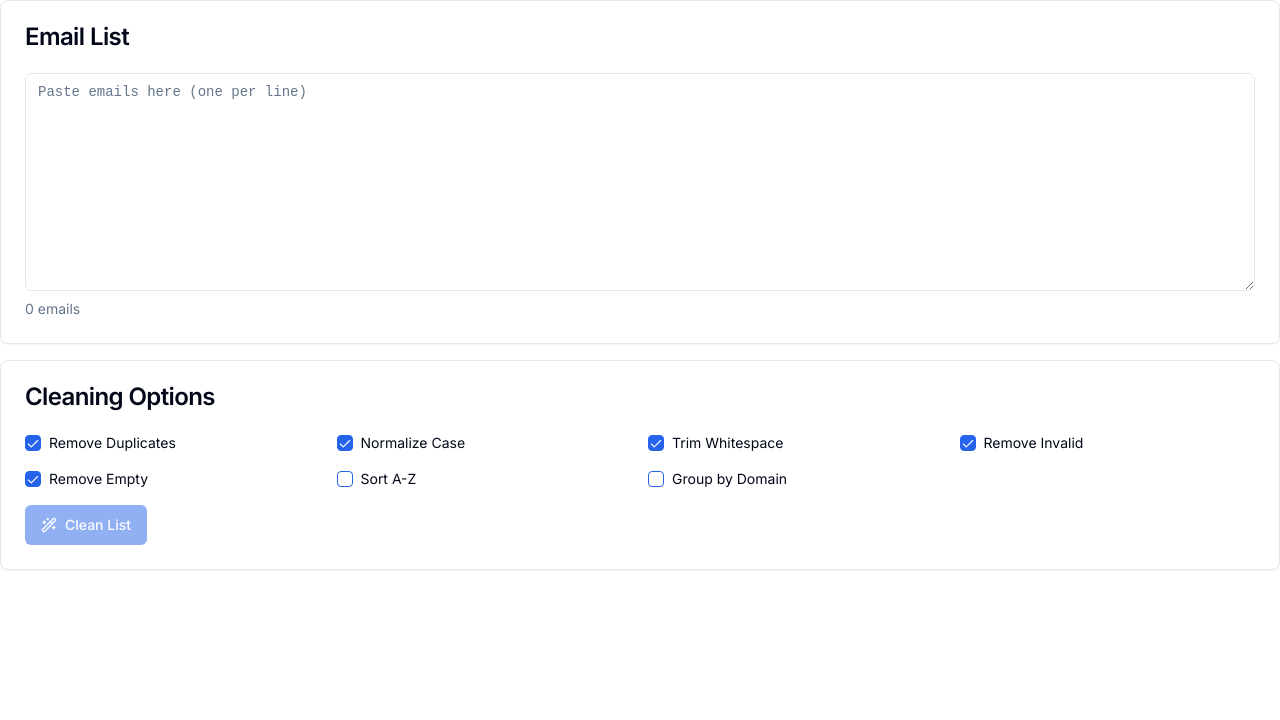
Test case: ListCleaner › enables clean button when emails are entered
The width and height of the screenshot is (1280, 720).
Type "test@example.com" into the text box with placeholder "Paste emails here (one per line)" at (640,182), box [25,73,1255,291]
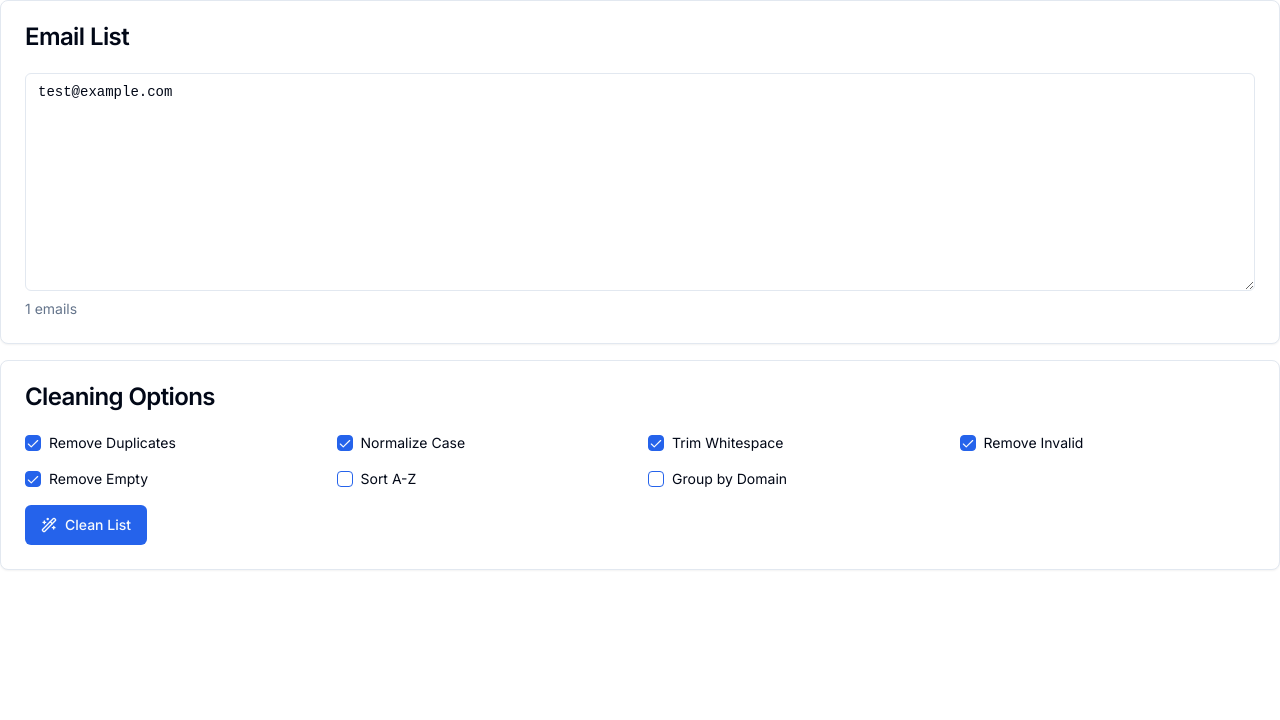
Check: the button "Clean List" is enabled, box [25,505,147,545]
